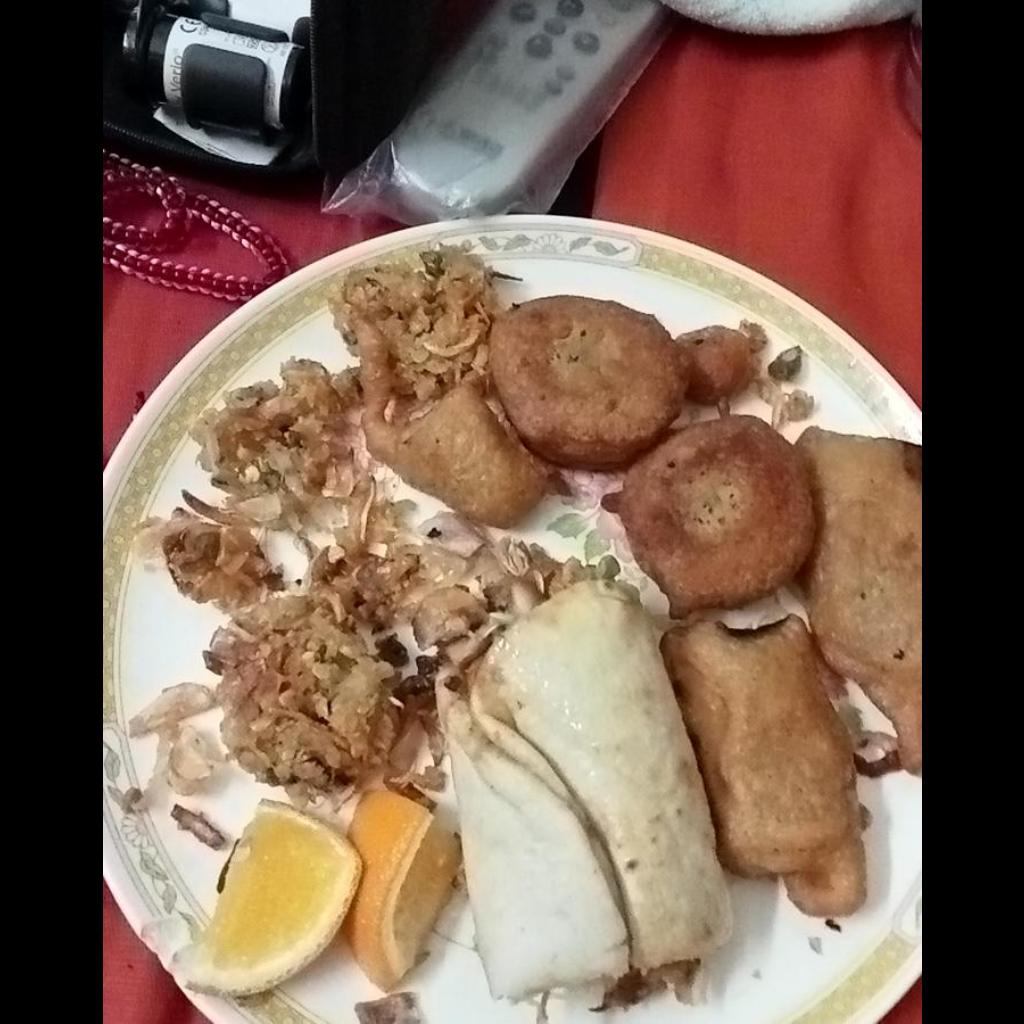beguni: (666, 428, 919, 915)
chop-alu: (384, 296, 812, 610)
orange: (173, 800, 448, 994)
peyaju: (171, 262, 487, 777)
sweets: (440, 577, 727, 1000)
